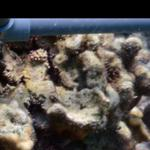dead: (1, 34, 148, 149)
